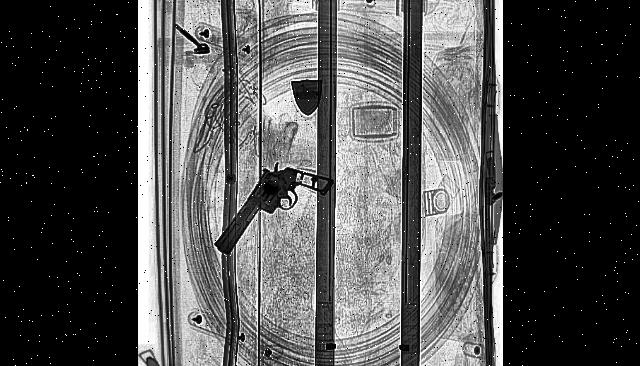Gun: (212, 115, 330, 310)
